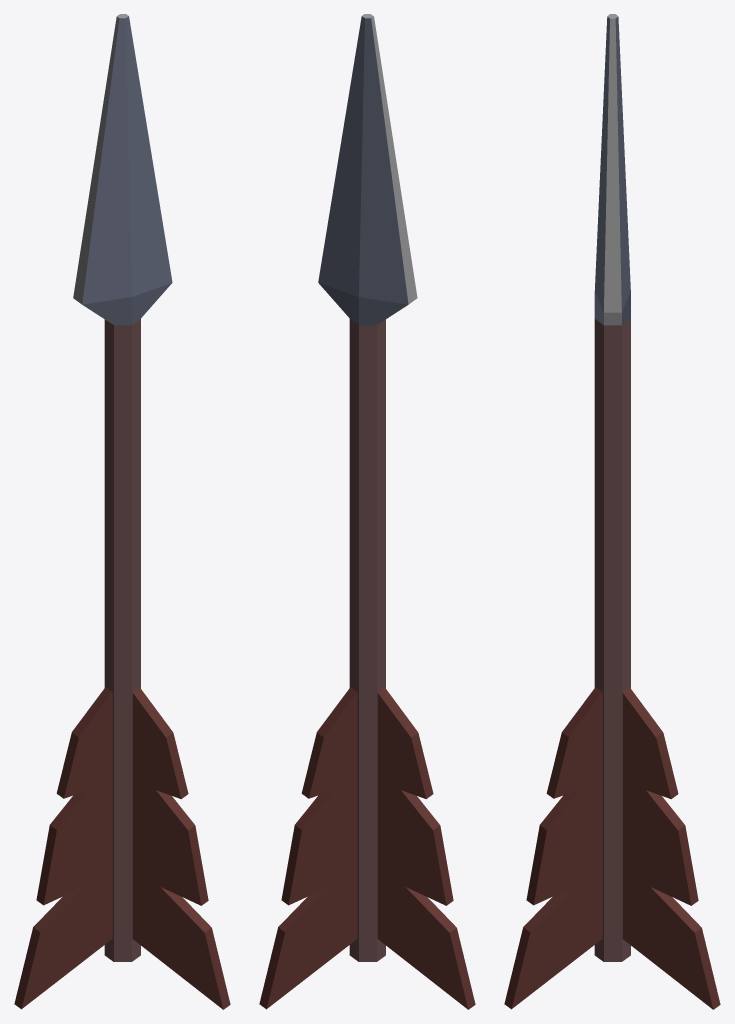
File: Dart.glb
3 views of the same model, side by side, from view 1: azimuth 30°, elevation 25°; view 2: azimuth 150°, elevation 25°; view 3: azimuth 270°, elevation 25° (orthographic).
Visible parts, largest first — view 1: Dart; view 2: Dart; view 3: Dart.
Boxes of the visible parts, box(x1,y1,x2,y2) form: Dart: box(14, 14, 230, 1009); Dart: box(259, 14, 475, 1009); Dart: box(504, 14, 720, 1009).
Size of the model in its own units: 0.0508 by 0.2876 by 0.0584.
